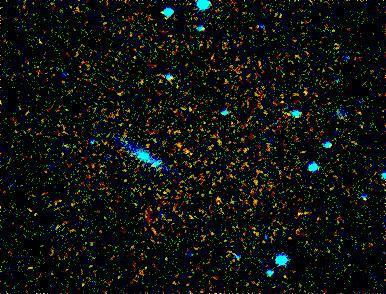star: (247, 225, 277, 255)
